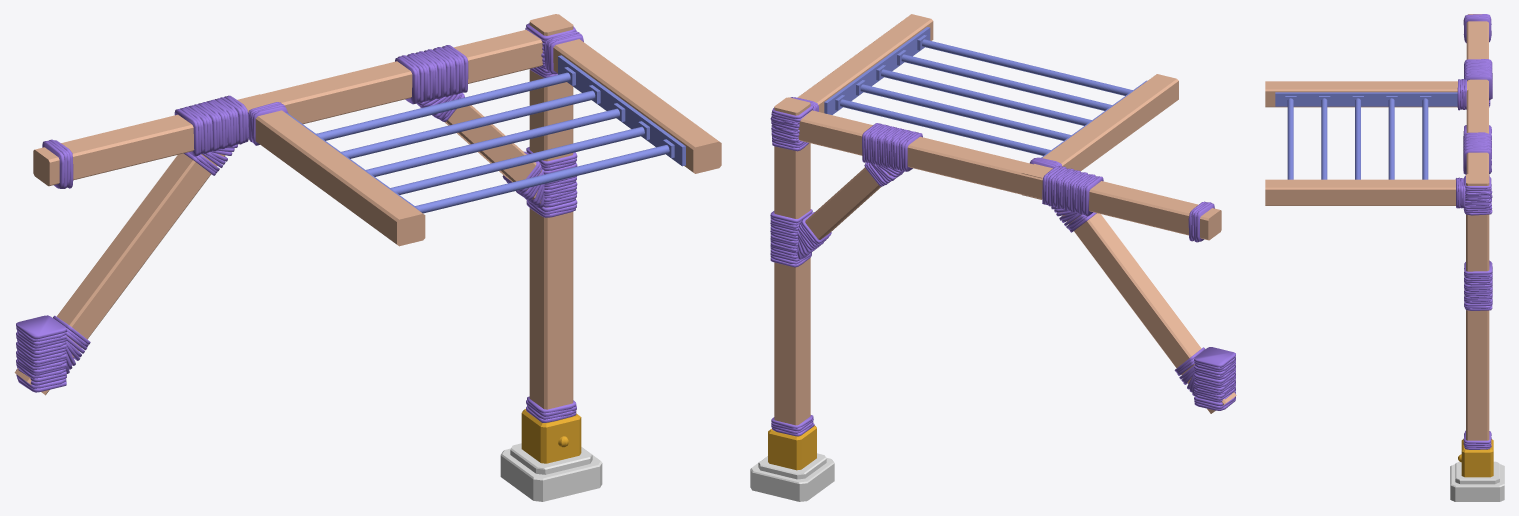
Rendered from Boss2_Platform_Left_AJ.fbx.
3 views of the same model, side by side, from view 1: azimuth 30°, elevation 25°; view 2: azimuth 150°, elevation 25°; view 3: azimuth 270°, elevation 25° (orthographic). The views are drawn at different scales.
Visible parts, largest first — view 1: Bottom_Stone.001; view 2: Bottom_Stone.001; view 3: Bottom_Stone.001.
Part boxes in pixels (x1,y1,x2,y2): Bottom_Stone.001: (14,14,721,501); Bottom_Stone.001: (750,14,1236,501); Bottom_Stone.001: (1265,14,1504,501).
Bounding box in the file's own units: 1997 × 1545 × 1076.
